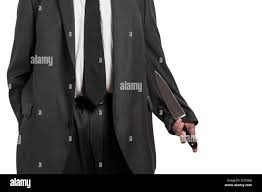knife: (154, 70, 197, 150)
